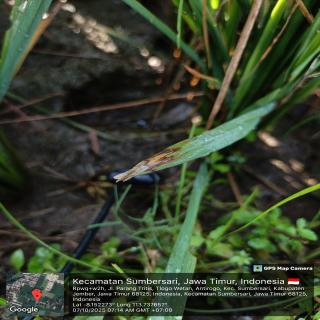Blast: (122, 147, 187, 182)
